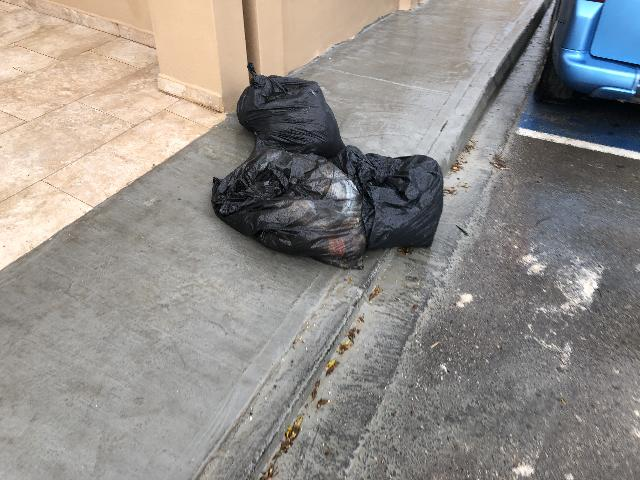Mixed -Black-: (333, 146, 443, 250), (237, 63, 345, 158)
Recyclable -Grey-: (212, 146, 366, 269)
